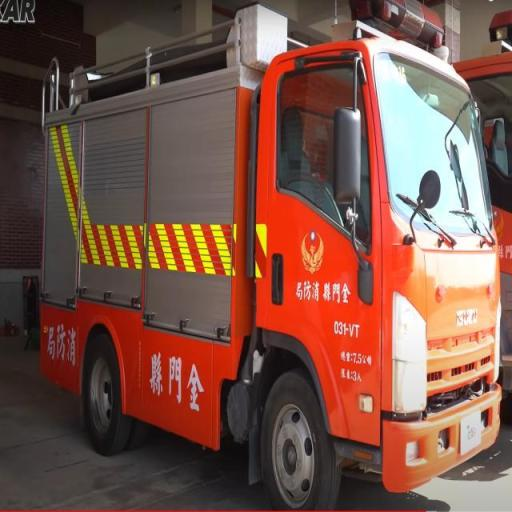fire truck: (32, 1, 504, 494)
